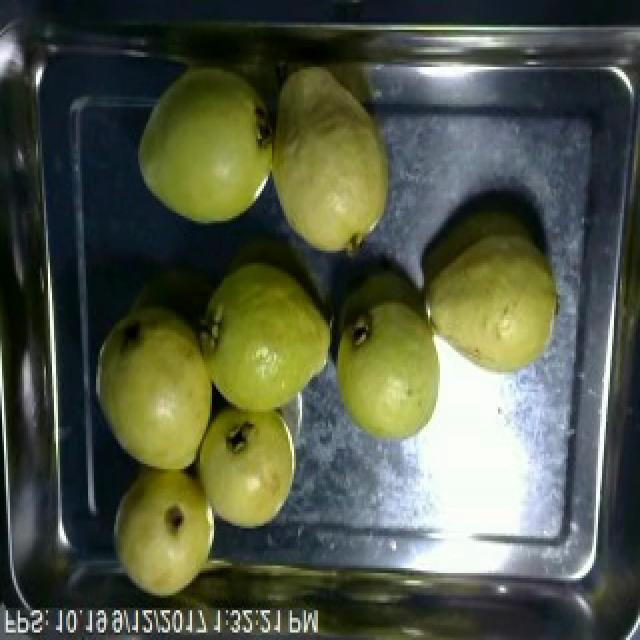Fruit: (406, 203, 574, 387), (272, 54, 406, 268), (82, 290, 228, 481), (194, 256, 336, 437), (128, 57, 274, 233), (334, 280, 454, 454), (106, 456, 226, 608)
